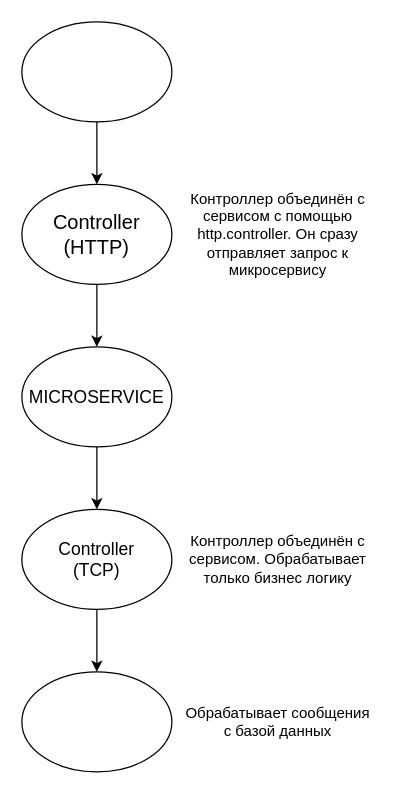
Some shapes in this 394 by 794 pixel diagram are drawn without their labels. The shapes that lost their labels are listed below. From the top down, each one's centre as x and y in pixels, then its label:
At pixel 96 71: "API-GATEWAY".
At pixel 96 721: "Service (TCP)".
